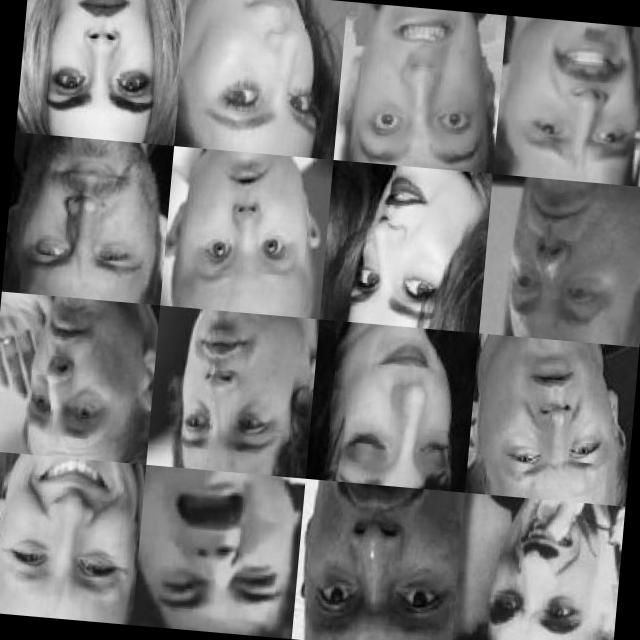angry: (510, 18, 640, 172)
fear: (294, 478, 461, 640), (348, 2, 497, 164), (176, 154, 316, 308), (474, 500, 615, 640)
happy: (0, 456, 139, 618), (340, 167, 475, 330), (20, 145, 160, 290), (201, 0, 338, 145), (37, 0, 172, 130)
neutral: (159, 307, 314, 475), (480, 340, 630, 504), (16, 302, 150, 458), (501, 178, 638, 330), (333, 332, 462, 488)
sad: (136, 466, 299, 624)
